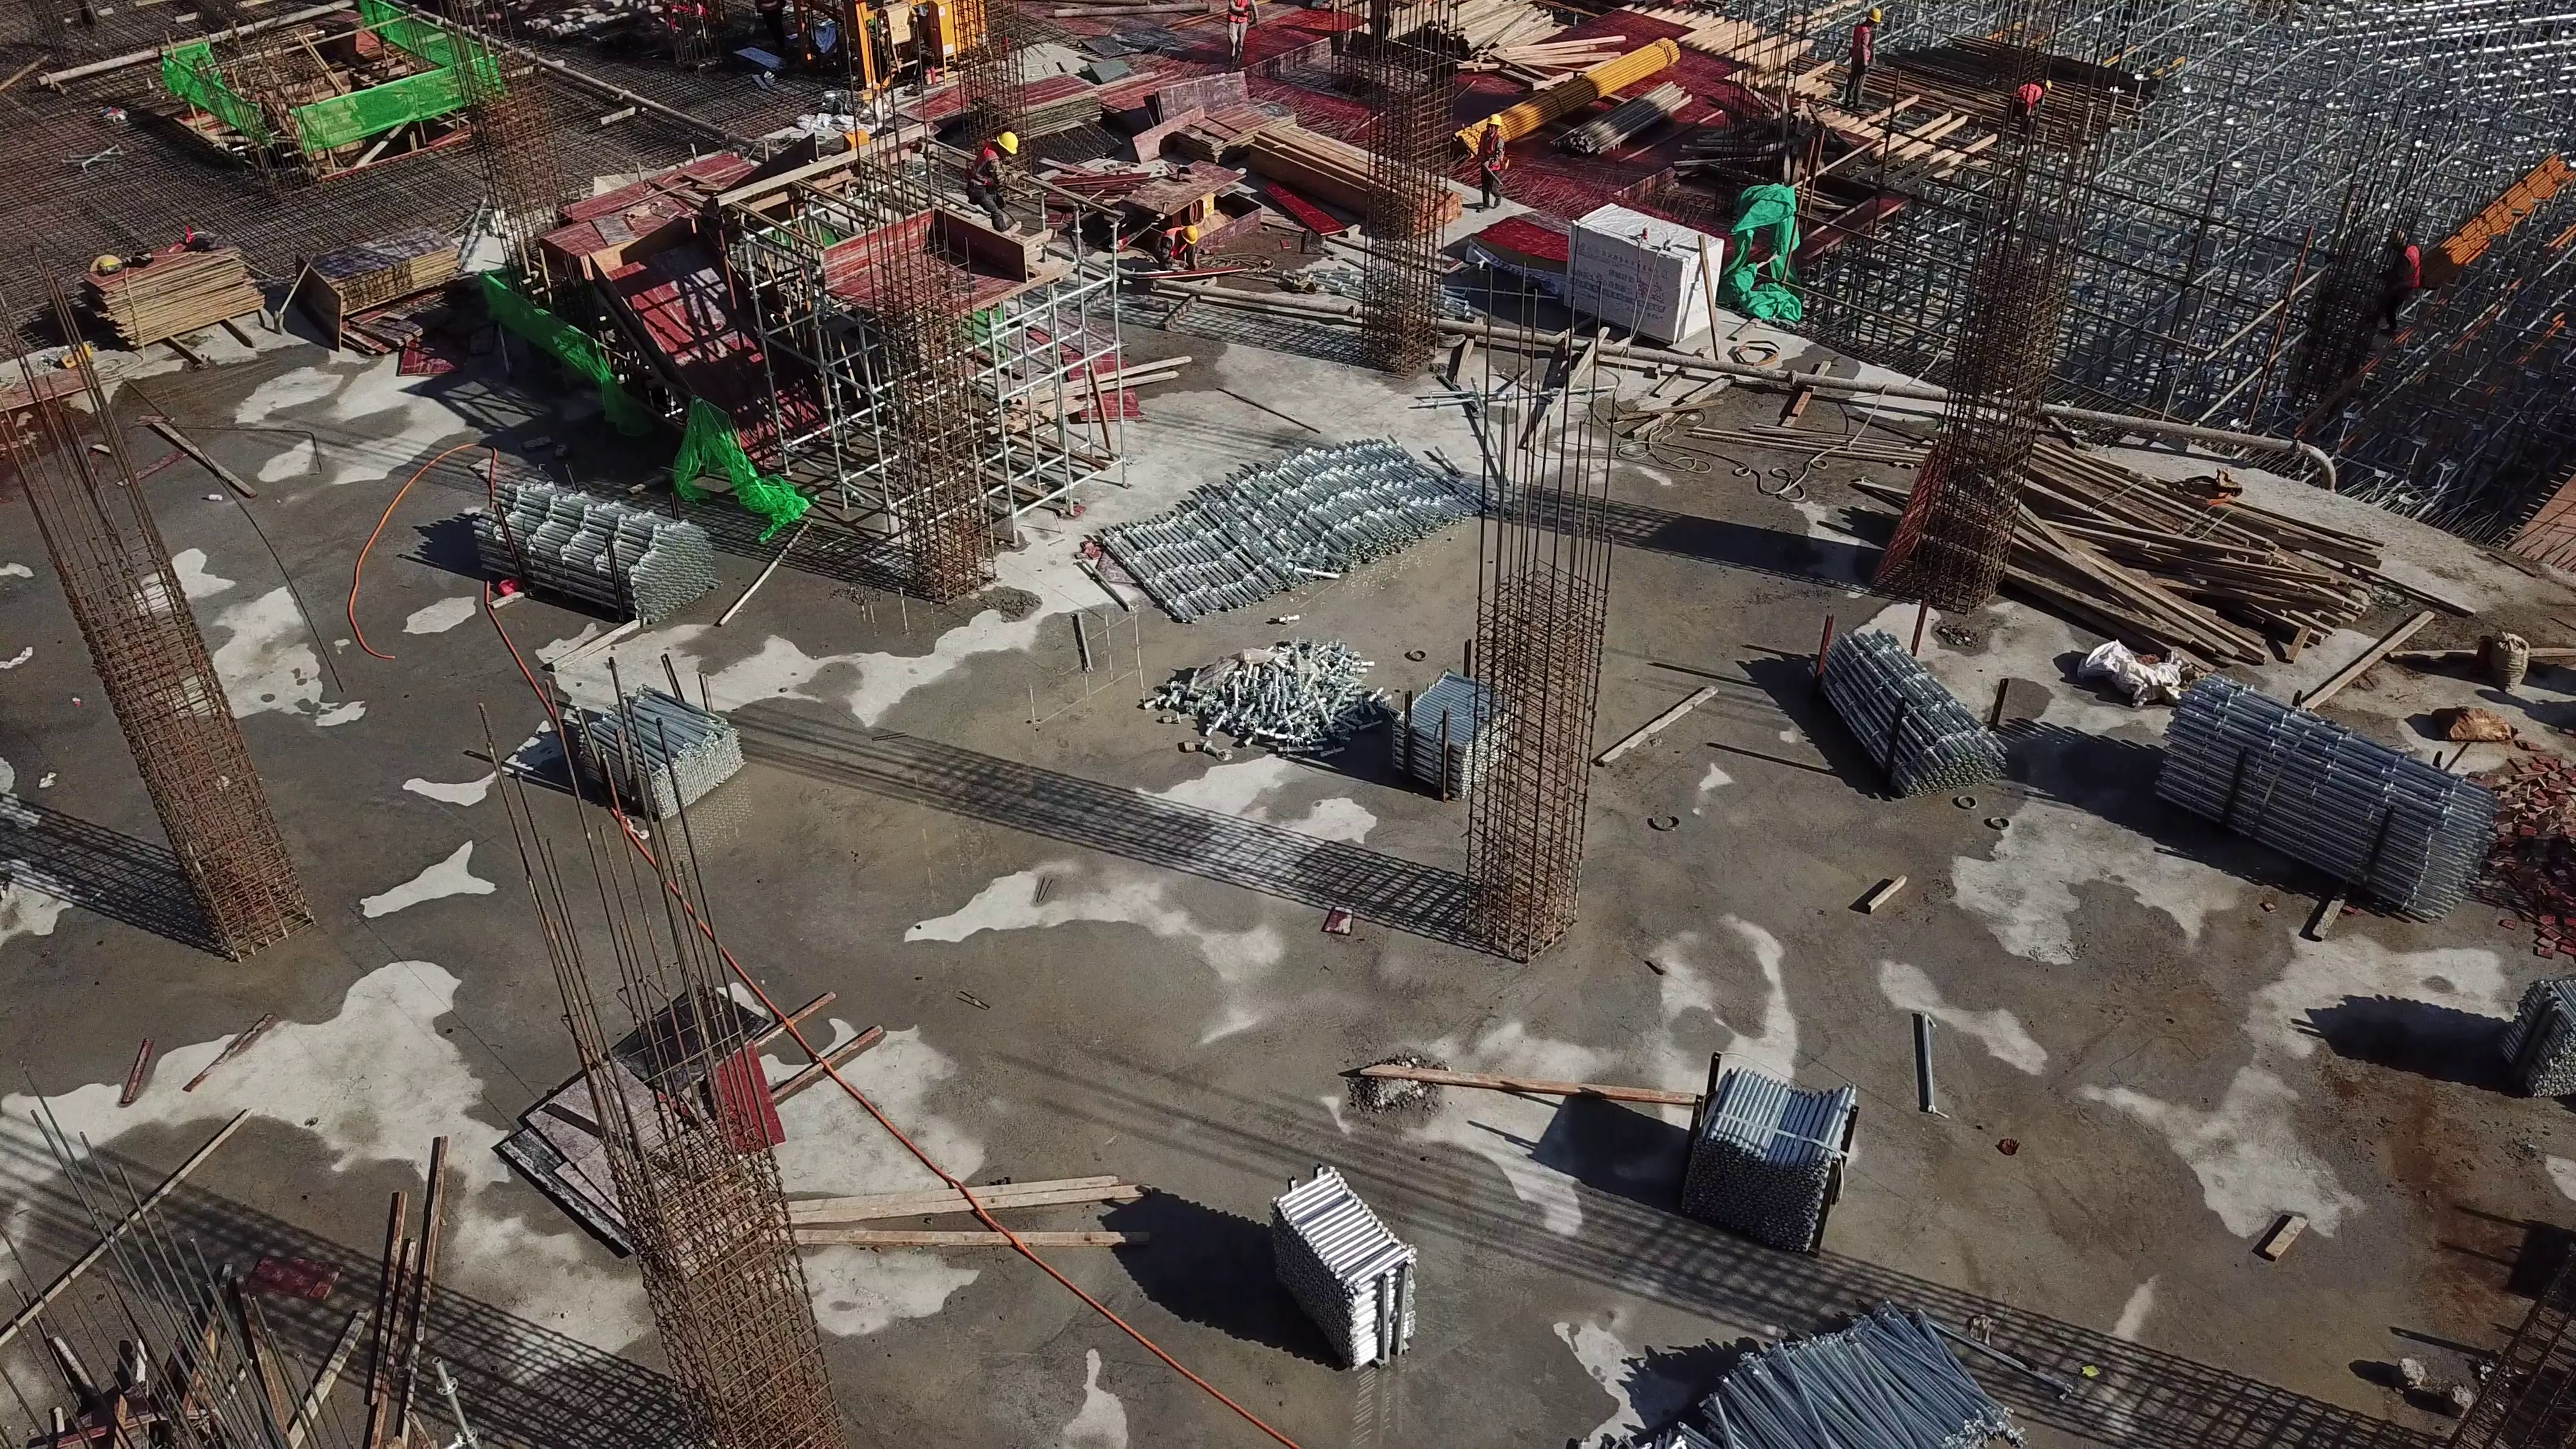board: (486, 1054, 771, 1271), (87, 237, 270, 336), (290, 223, 470, 315), (1141, 70, 1250, 131), (1177, 103, 1279, 162), (1026, 73, 1106, 139)
helmet: (997, 131, 1020, 156), (1179, 223, 1199, 243), (1485, 111, 1505, 127), (1868, 9, 1880, 22), (2043, 77, 2052, 90)
person: (951, 124, 1028, 236), (1126, 208, 1216, 275), (1467, 107, 1517, 210), (1842, 3, 1890, 104), (2000, 61, 2052, 130), (1229, 1, 1254, 59)
scaffold: (2151, 676, 2481, 922), (1115, 423, 1452, 614), (1675, 1304, 2019, 1449), (460, 473, 718, 624), (1676, 1065, 1859, 1261), (1816, 624, 2008, 806), (1272, 1157, 1426, 1377), (563, 670, 748, 827), (1387, 653, 1490, 801)
vest: (969, 142, 1000, 189), (1477, 131, 1502, 170), (1157, 225, 1183, 258), (1850, 21, 1872, 60), (2015, 83, 2043, 108), (1228, 1, 1252, 25)
wood: (1935, 400, 2356, 674)
